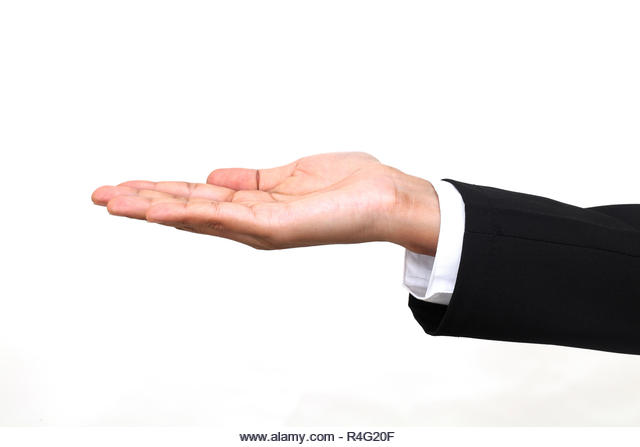hand: (77, 139, 403, 270)
